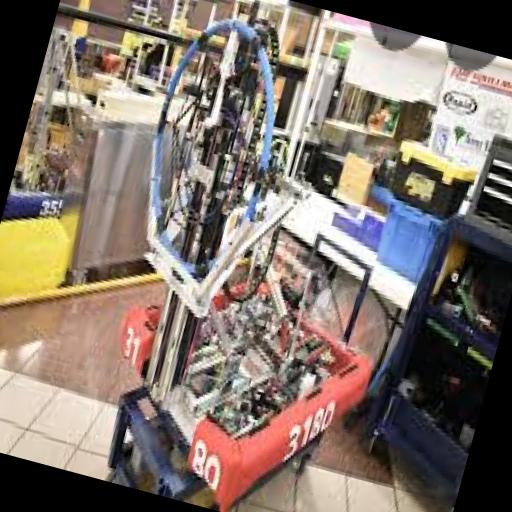robot: (76, 0, 454, 512)
